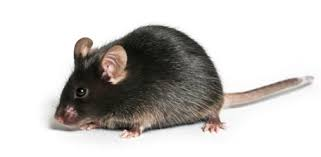mice: (53, 23, 314, 141)
